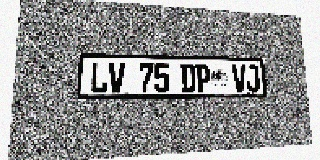5: (154, 63, 170, 93)
7: (138, 63, 154, 93)
D: (180, 64, 196, 92)
J: (245, 65, 260, 92)
L: (90, 62, 108, 93)
P: (195, 64, 211, 92)
V: (108, 62, 125, 93), (232, 65, 247, 92)
